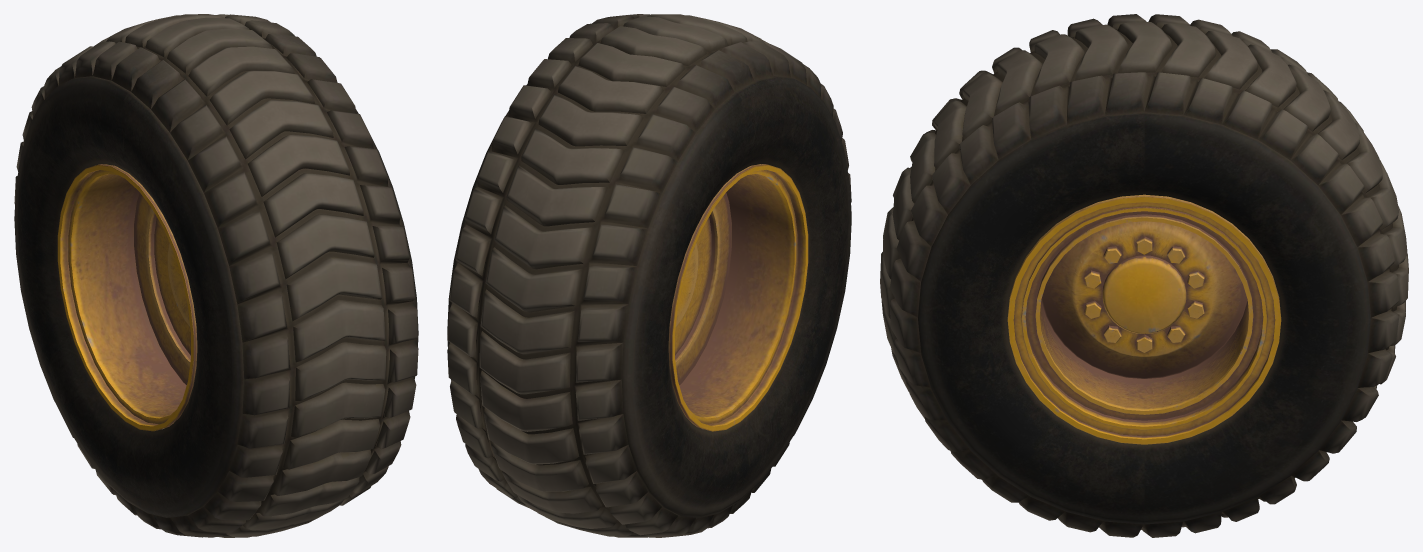
File: lastlasttyreleft_optimized.glb
3 views of the same model, side by side, from view 1: azimuth 30°, elevation 25°; view 2: azimuth 150°, elevation 25°; view 3: azimuth 270°, elevation 25° (orthographic).
Visible parts, largest first — view 1: 013.001; view 2: 013.001; view 3: 013.001.
Part boxes in pixels (x1,y1,x2,y2): 013.001: [14, 14, 418, 537]; 013.001: [447, 14, 851, 537]; 013.001: [880, 14, 1408, 537].
Size of the model in its own units: 28.06 by 64.44 by 64.44.
1 material, 1 textured.
